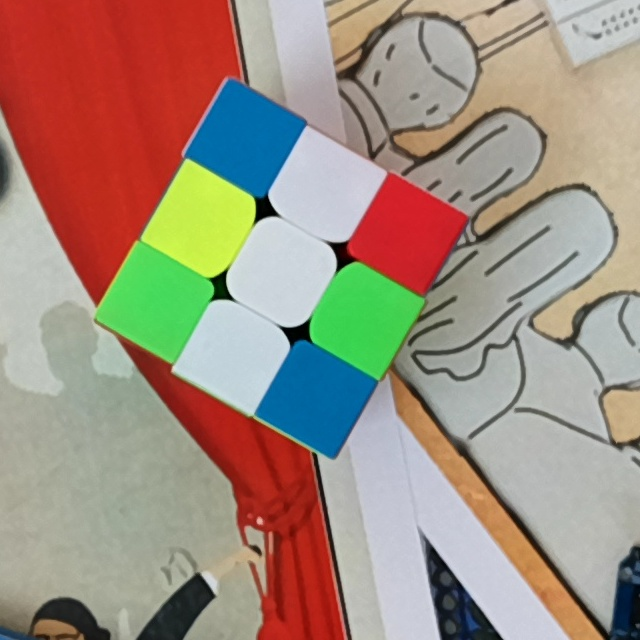tile: (246, 241, 314, 305), (331, 285, 397, 350), (212, 108, 278, 172), (121, 271, 190, 332), (292, 159, 358, 222), (200, 324, 266, 387), (170, 191, 236, 253), (281, 371, 350, 430), (375, 203, 439, 266)
